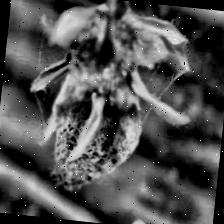Gray Mold: (19, 0, 202, 204)
